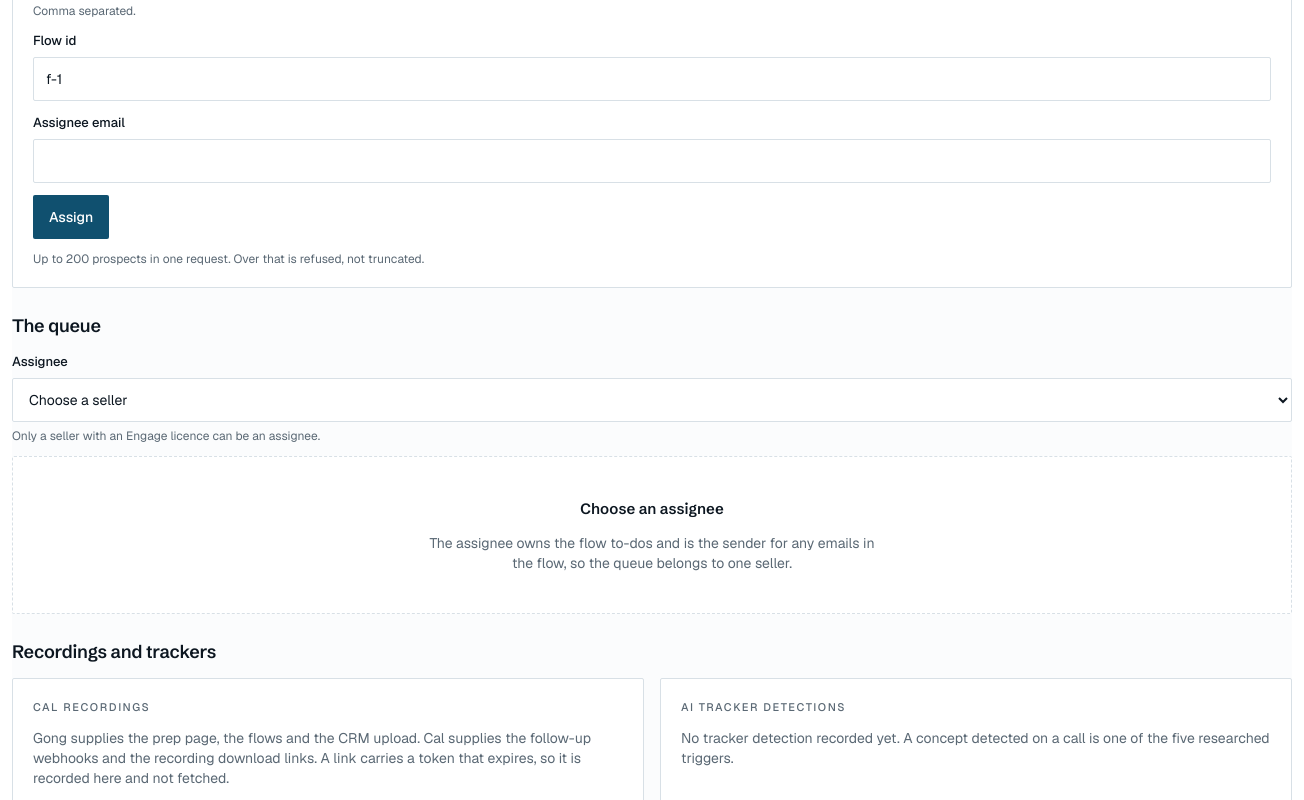
the three researched statuses › offers only the other two statuses as actions
(page scrolled)
Select "dana@northwind.example" in the dropdown labelled "Assignee" at (652, 400), box [12,378,1292,422]
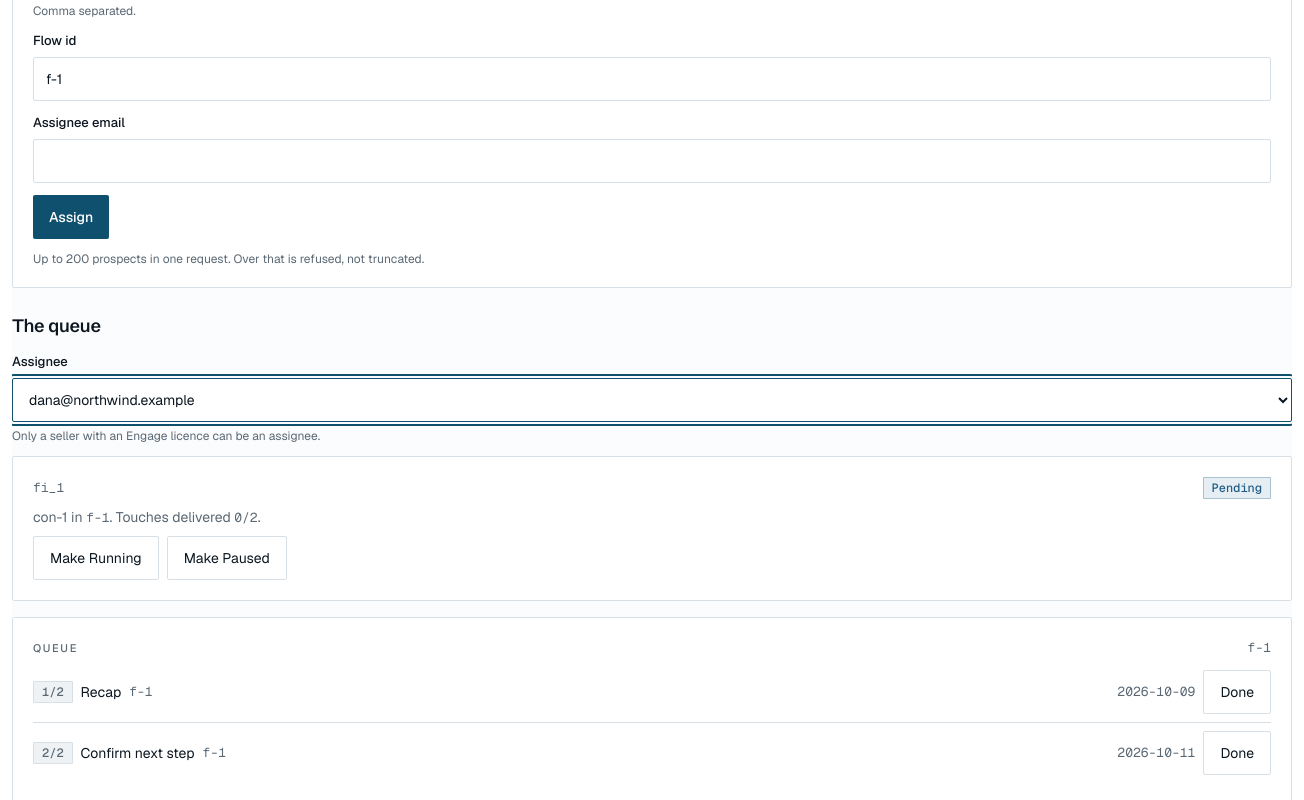
expect the button "Make Running" is shown: met, box [33,536,159,580]
expect the button "Make Paused" is shown: met, box [167,536,287,580]
